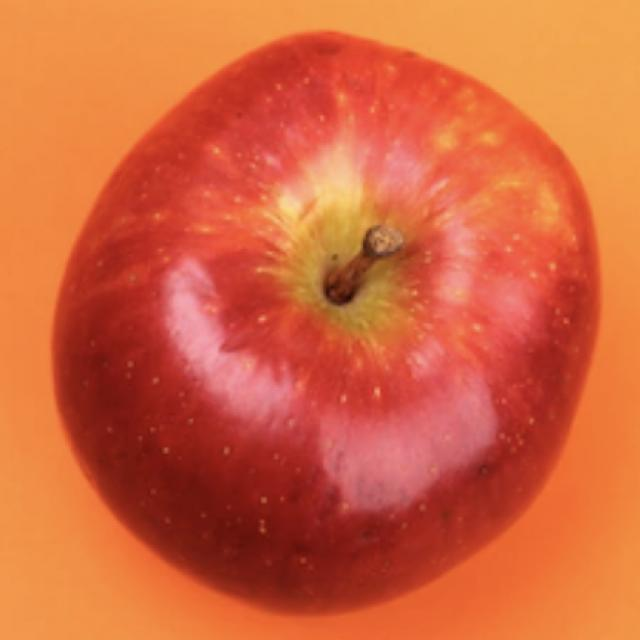Fresh Apple: (72, 46, 593, 596)
